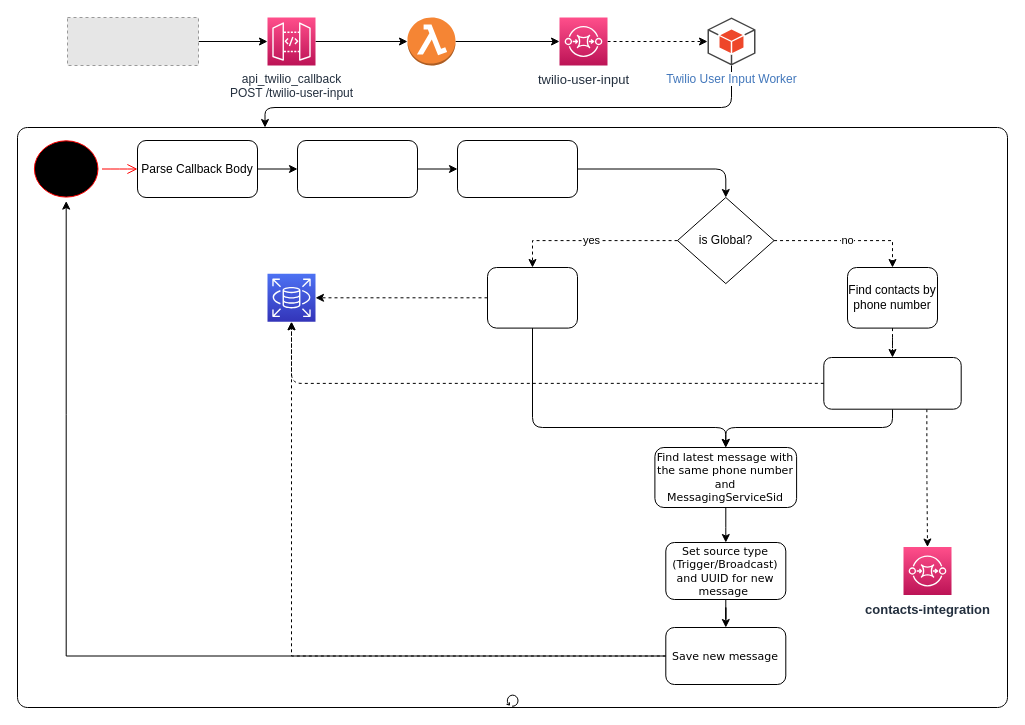
Image size: 1025x725. Some labels were removed from this diagram. Grey dashed boxes stand in for pictures. Here are the shapes that lost their labels. From the top down, the centre of each, then its label:
At (x=431, y=41): "twilio-callback".
At (x=357, y=169): "Get OptOut keyword from Message Body".
At (x=517, y=169): "Find organization by MessagingServiceSid".
At (x=532, y=297): "Update Global OptOut with phone number".
At (x=892, y=382): "Update Contact subscription status Active/Unsubscribed".
